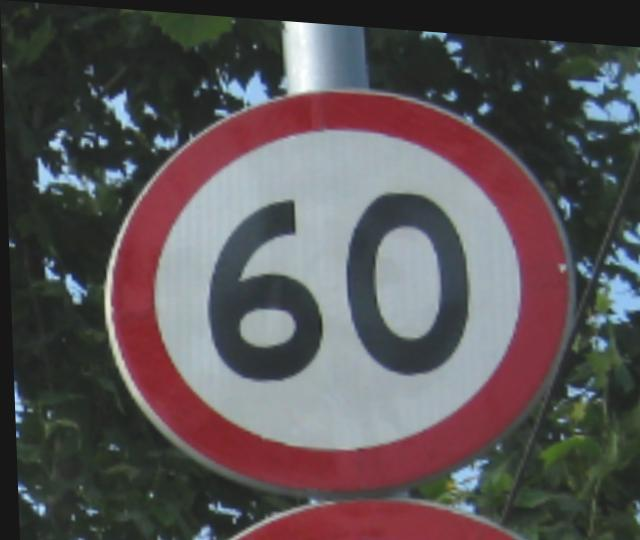limit60: (80, 57, 588, 515)
